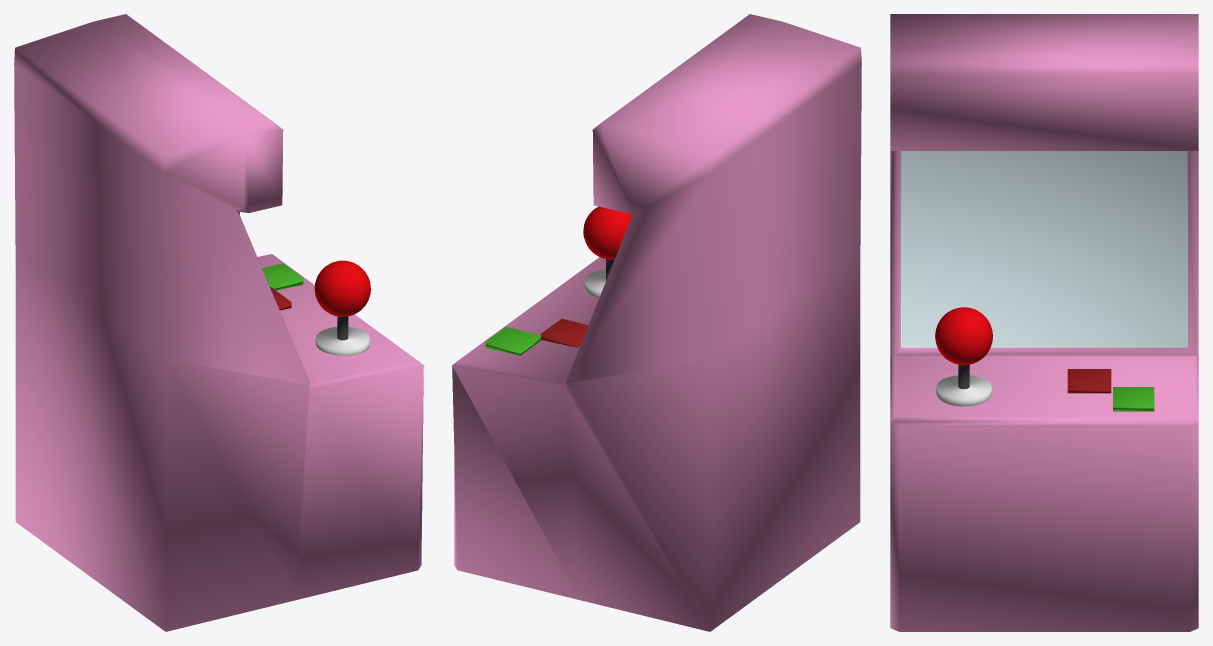
Rendered from ArcadeMachine1.fbx.
3 renders of one model, left to right at view 1: azimuth 30°, elevation 25°; view 2: azimuth 150°, elevation 25°; view 3: azimuth 270°, elevation 25°, orthographic. The views are drawn at different scales.
Parts seen in each view (by area): view 1: Cube, Sphere, Cube.002; view 2: Cube, Sphere, Cube.002, Cube.001; view 3: Cube, Cube.003, Sphere, Cube.001, Cube.002.
Part boxes in pixels (x1,y1,x2,y2): Cube: (14, 14, 423, 631); Sphere: (314, 260, 370, 355); Cube.002: (262, 263, 303, 290); Cube: (452, 14, 861, 631); Sphere: (583, 206, 632, 297); Cube.002: (485, 327, 540, 355); Cube.001: (540, 318, 588, 347); Cube: (890, 14, 1198, 631); Cube.003: (901, 151, 1187, 347); Sphere: (935, 307, 992, 406); Cube.001: (1067, 369, 1111, 393); Cube.002: (1113, 387, 1154, 411).
Size of the model in its own units: 201 by 354 by 200.
